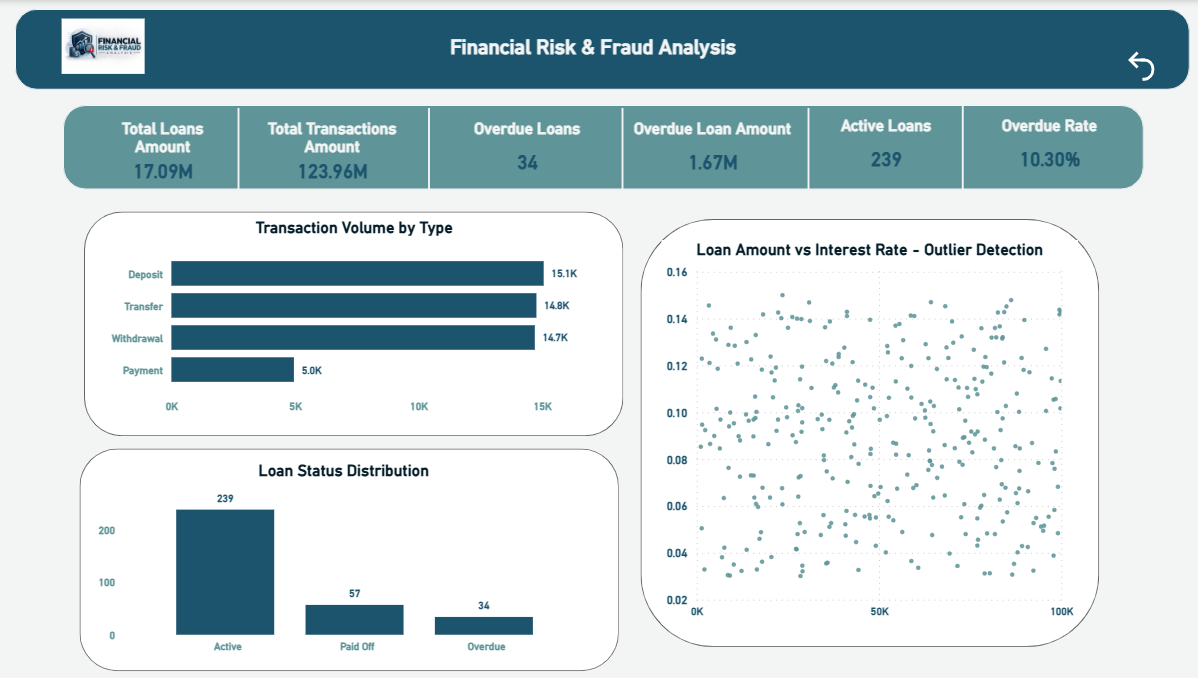

The page's visual inventory and layout, read from the dashboard file:
{"tool":"powerbi","page":{"name":"Executive Overview","canvas":[1280,720],"ordinal":0},"visuals":[{"type":"shape","box":[18.3,10.2,1244.8,85.4],"z":0},{"type":"shape","box":[69.2,111.9,1145.1,89.5],"z":1000},{"type":"textbox","box":[410.9,32.5,443.4,42.7],"z":2000},{"type":"image","box":[52.9,14.2,120,69.2],"z":3000},{"type":"shape","box":[1017,111.9,12.2,93.6],"z":4000},{"type":"shape","box":[853.5,113.8,12.7,93.8],"z":4000,"group":"g1"},{"type":"shape","box":[656.4,113.8,12.7,93.8],"z":6000,"group":"g1"},{"type":"shape","box":[451.4,113.8,12.7,93.8],"z":7000,"group":"g1"},{"type":"shape","box":[249.5,113.8,12.7,93.8],"z":8000,"group":"g1"},{"type":"card","title":"Total Loans Amount","fields":{"Values":["Sum(loans.PrincipalAmount)"]},"box":[101.7,124.9,147.8,73.1],"z":9000,"group":"g1"},{"type":"card","title":"Total Transactions Amount","fields":{"Values":["Sum(transactions.Amount)"]},"box":[281.3,124.9,147.8,73.1],"z":10000,"group":"g1"},{"type":"card","title":"Overdue Loans","fields":{"Values":["loans.Overdue Loans"]},"box":[487.9,124.9,147.8,73.1],"z":11000,"group":"g1"},{"type":"card","title":"Overdue Loan Amount","fields":{"Values":["loans.Overdue Loan Amount"]},"box":[662.8,124.9,190.7,73.1],"z":12000,"group":"g1"},{"type":"card","title":"Active Loans","fields":{"Values":["loans.Active Loans"]},"box":[868.2,121.1,148.5,73.2],"z":13000,"group":"g1"},{"type":"card","title":"Overdue Rate","fields":{"Values":["loans.Overdue Rate"]},"box":[1041.4,122,148.5,73.2],"z":13000},{"type":"shape","box":[91.5,223.7,571.5,238],"z":14000},{"type":"shape","box":[87.5,475.9,571.5,235.9],"z":15000},{"type":"shape","box":[681.4,231.9,486.1,453.6],"z":16000},{"type":"scatterChart","title":"Loan Amount vs Interest Rate - Outlier Detection ","fields":{"X":["Sum(loans.PrincipalAmount)"],"Y":["Sum(loans.InterestRate)"],"Category":["loans.LoanID"]},"box":[703.7,254.2,441.4,406.8],"z":17000},{"type":"clusteredBarChart","title":"Transaction Volume by Type ","fields":{"Category":["transaction_types.TypeName"],"Y":["CountNonNull(transactions.TransactionID)"]},"box":[114,231.2,528.2,213.5],"z":18000},{"type":"clusteredColumnChart","title":"Loan Status Distribution","fields":{"Category":["loan_statuses.StatusName"],"Y":["CountNonNull(loans.LoanID)"]},"box":[101.1,488,531.4,210.3],"z":19000},{"type":"actionButton","box":[1192.1,49.3,44.5,41.3],"z":20000},{"type":"group","id":"g1","title":"Group 1","box":[101.7,113.8,915.3,93.6],"z":22001}]}

Visuals, with their boxes in screenshot pixels (x1, y1, x2, y2), scaled from the page's 1280x720 canvas onto the 1198x678 screenshot:
shape: select_region(17, 10, 1182, 90)
shape: select_region(65, 105, 1137, 190)
textbox: select_region(385, 31, 800, 71)
image: select_region(50, 13, 162, 79)
shape: select_region(952, 105, 963, 194)
shape: select_region(799, 107, 811, 195)
shape: select_region(614, 107, 626, 195)
shape: select_region(422, 107, 434, 195)
shape: select_region(234, 107, 245, 195)
"Total Loans Amount" card: select_region(95, 118, 234, 186)
"Total Transactions Amount" card: select_region(263, 118, 402, 186)
"Overdue Loans" card: select_region(457, 118, 595, 186)
"Overdue Loan Amount" card: select_region(620, 118, 799, 186)
"Active Loans" card: select_region(813, 114, 952, 183)
"Overdue Rate" card: select_region(975, 115, 1114, 184)
shape: select_region(86, 211, 621, 435)
shape: select_region(82, 448, 617, 670)
shape: select_region(638, 218, 1093, 646)
"Loan Amount vs Interest Rate - Outlier Detection " scatterChart: select_region(659, 239, 1072, 622)
"Transaction Volume by Type " clusteredBarChart: select_region(107, 218, 601, 419)
"Loan Status Distribution" clusteredColumnChart: select_region(95, 460, 592, 658)
actionButton: select_region(1116, 46, 1157, 85)
"Group 1" group: select_region(95, 107, 952, 195)
